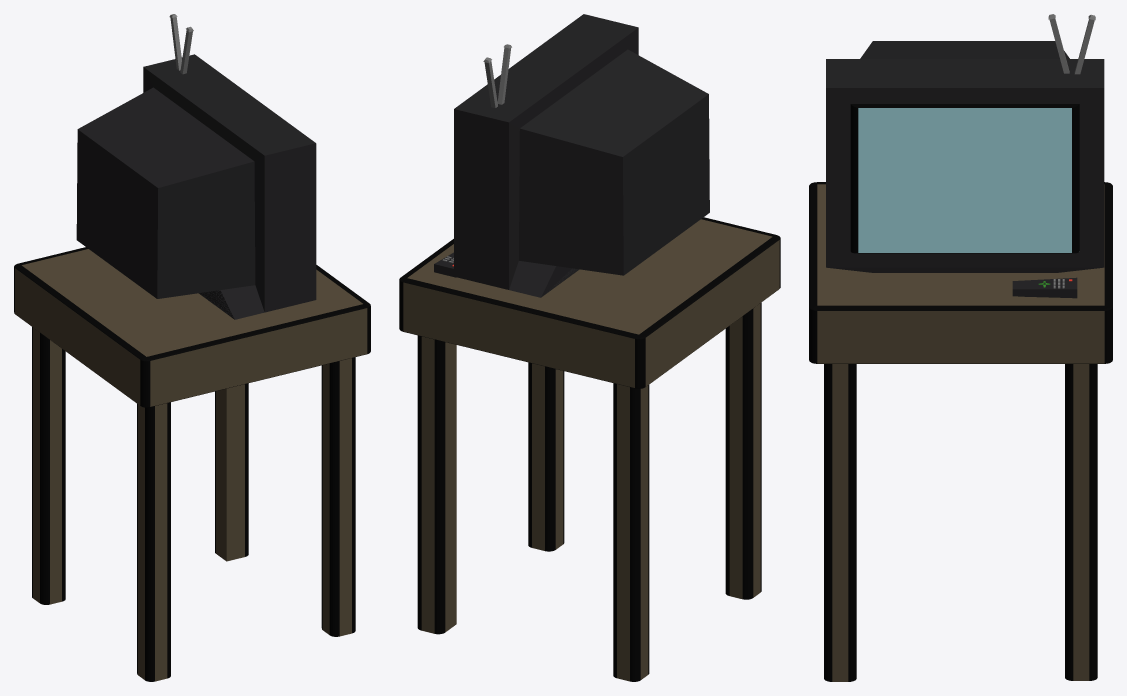
3 views of the same model, side by side, from view 1: azimuth 30°, elevation 25°; view 2: azimuth 150°, elevation 25°; view 3: azimuth 270°, elevation 25° (orthographic). The views are drawn at different scales.
Visible parts, largest first — view 1: Cube.024; view 2: Cube.024; view 3: Cube.024.
Boxes of the visible parts, x1=… form: Cube.024: x1=14, y1=14, x2=370, y2=681; Cube.024: x1=399, y1=14, x2=780, y2=681; Cube.024: x1=809, y1=14, x2=1112, y2=681.
Bounding box in the file's own units: 77.5 × 177 × 77.5.
